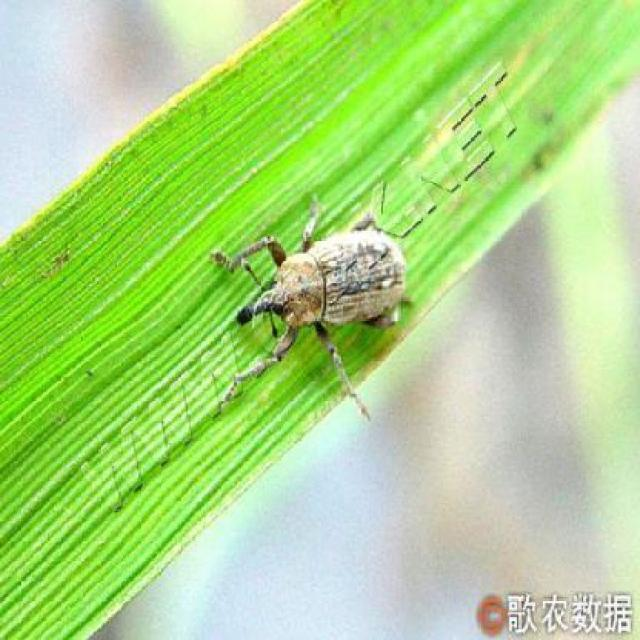rice-bug: (221, 203, 414, 385)
